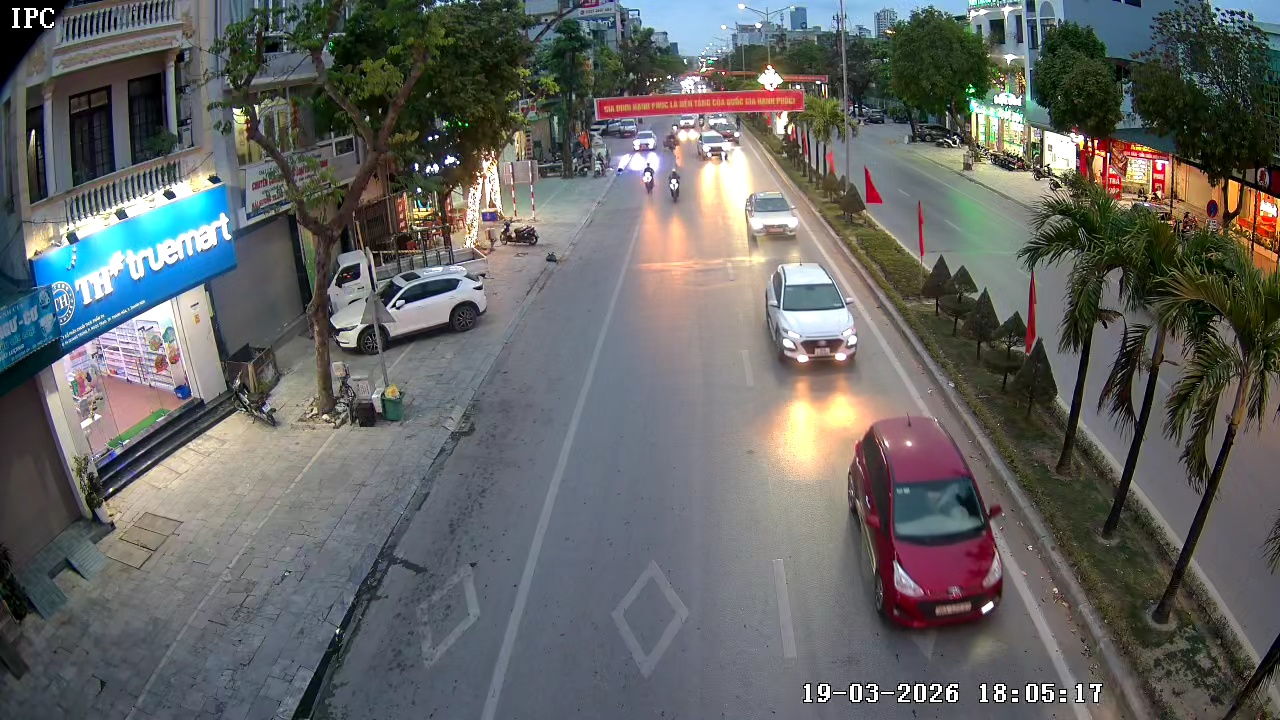car: (845, 414, 1006, 627), (331, 263, 488, 353), (764, 262, 858, 368), (744, 189, 800, 242), (698, 130, 729, 161)
motorbike: (665, 162, 683, 202), (640, 154, 657, 193)
